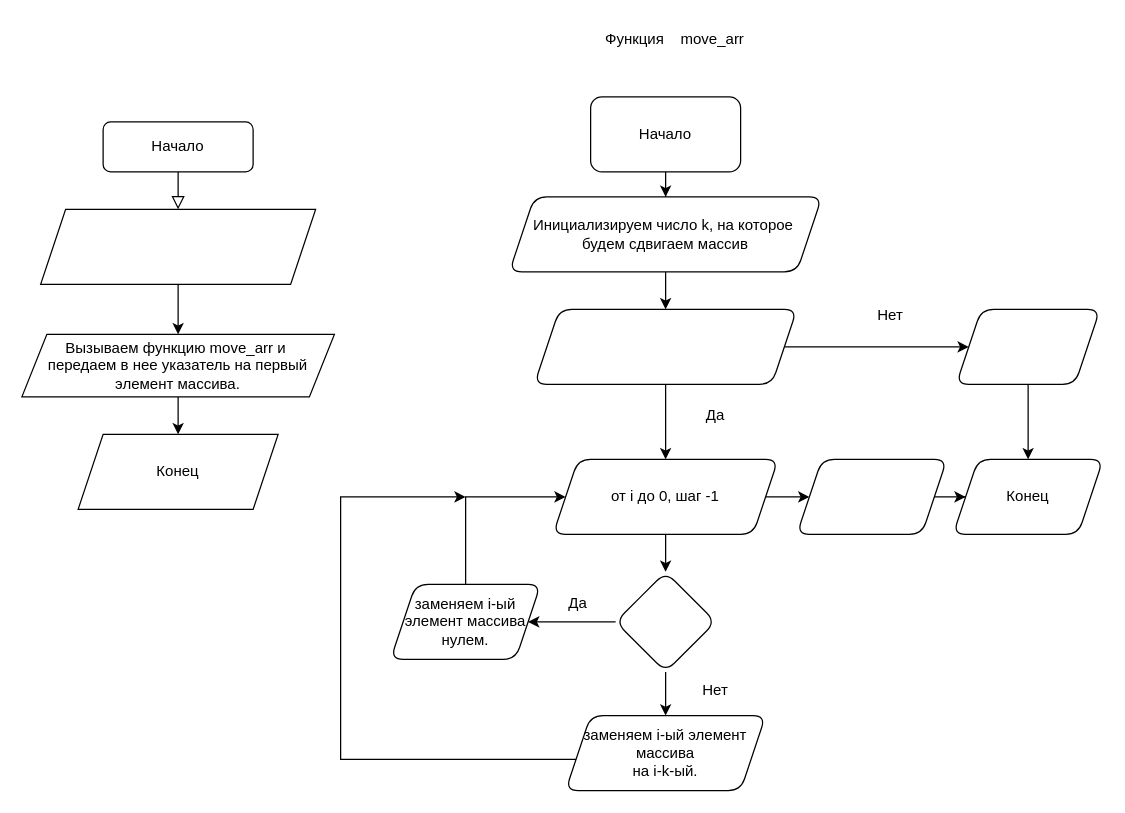
Image size: 1125x813. Some labels were removed from this diagram. The shapes that lost their labels are listed below. From the top down, each one's centre as x and y in pixels, then its label:
At (177,246): "Объявляем и инициализируем массив".
At (665,346): "Проверяем чтобы число k >= 0;".
At (1027,346): "Завершаем программу".
At (871,496): "выводим массив".
At (665,621): "i < k".
